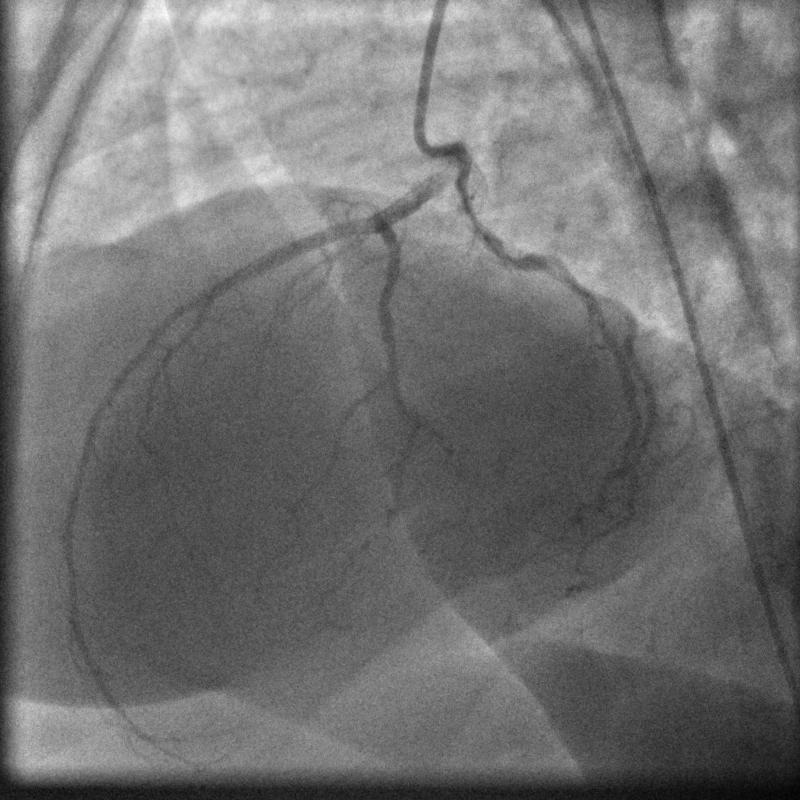Stenosis: (487, 227, 534, 278)
